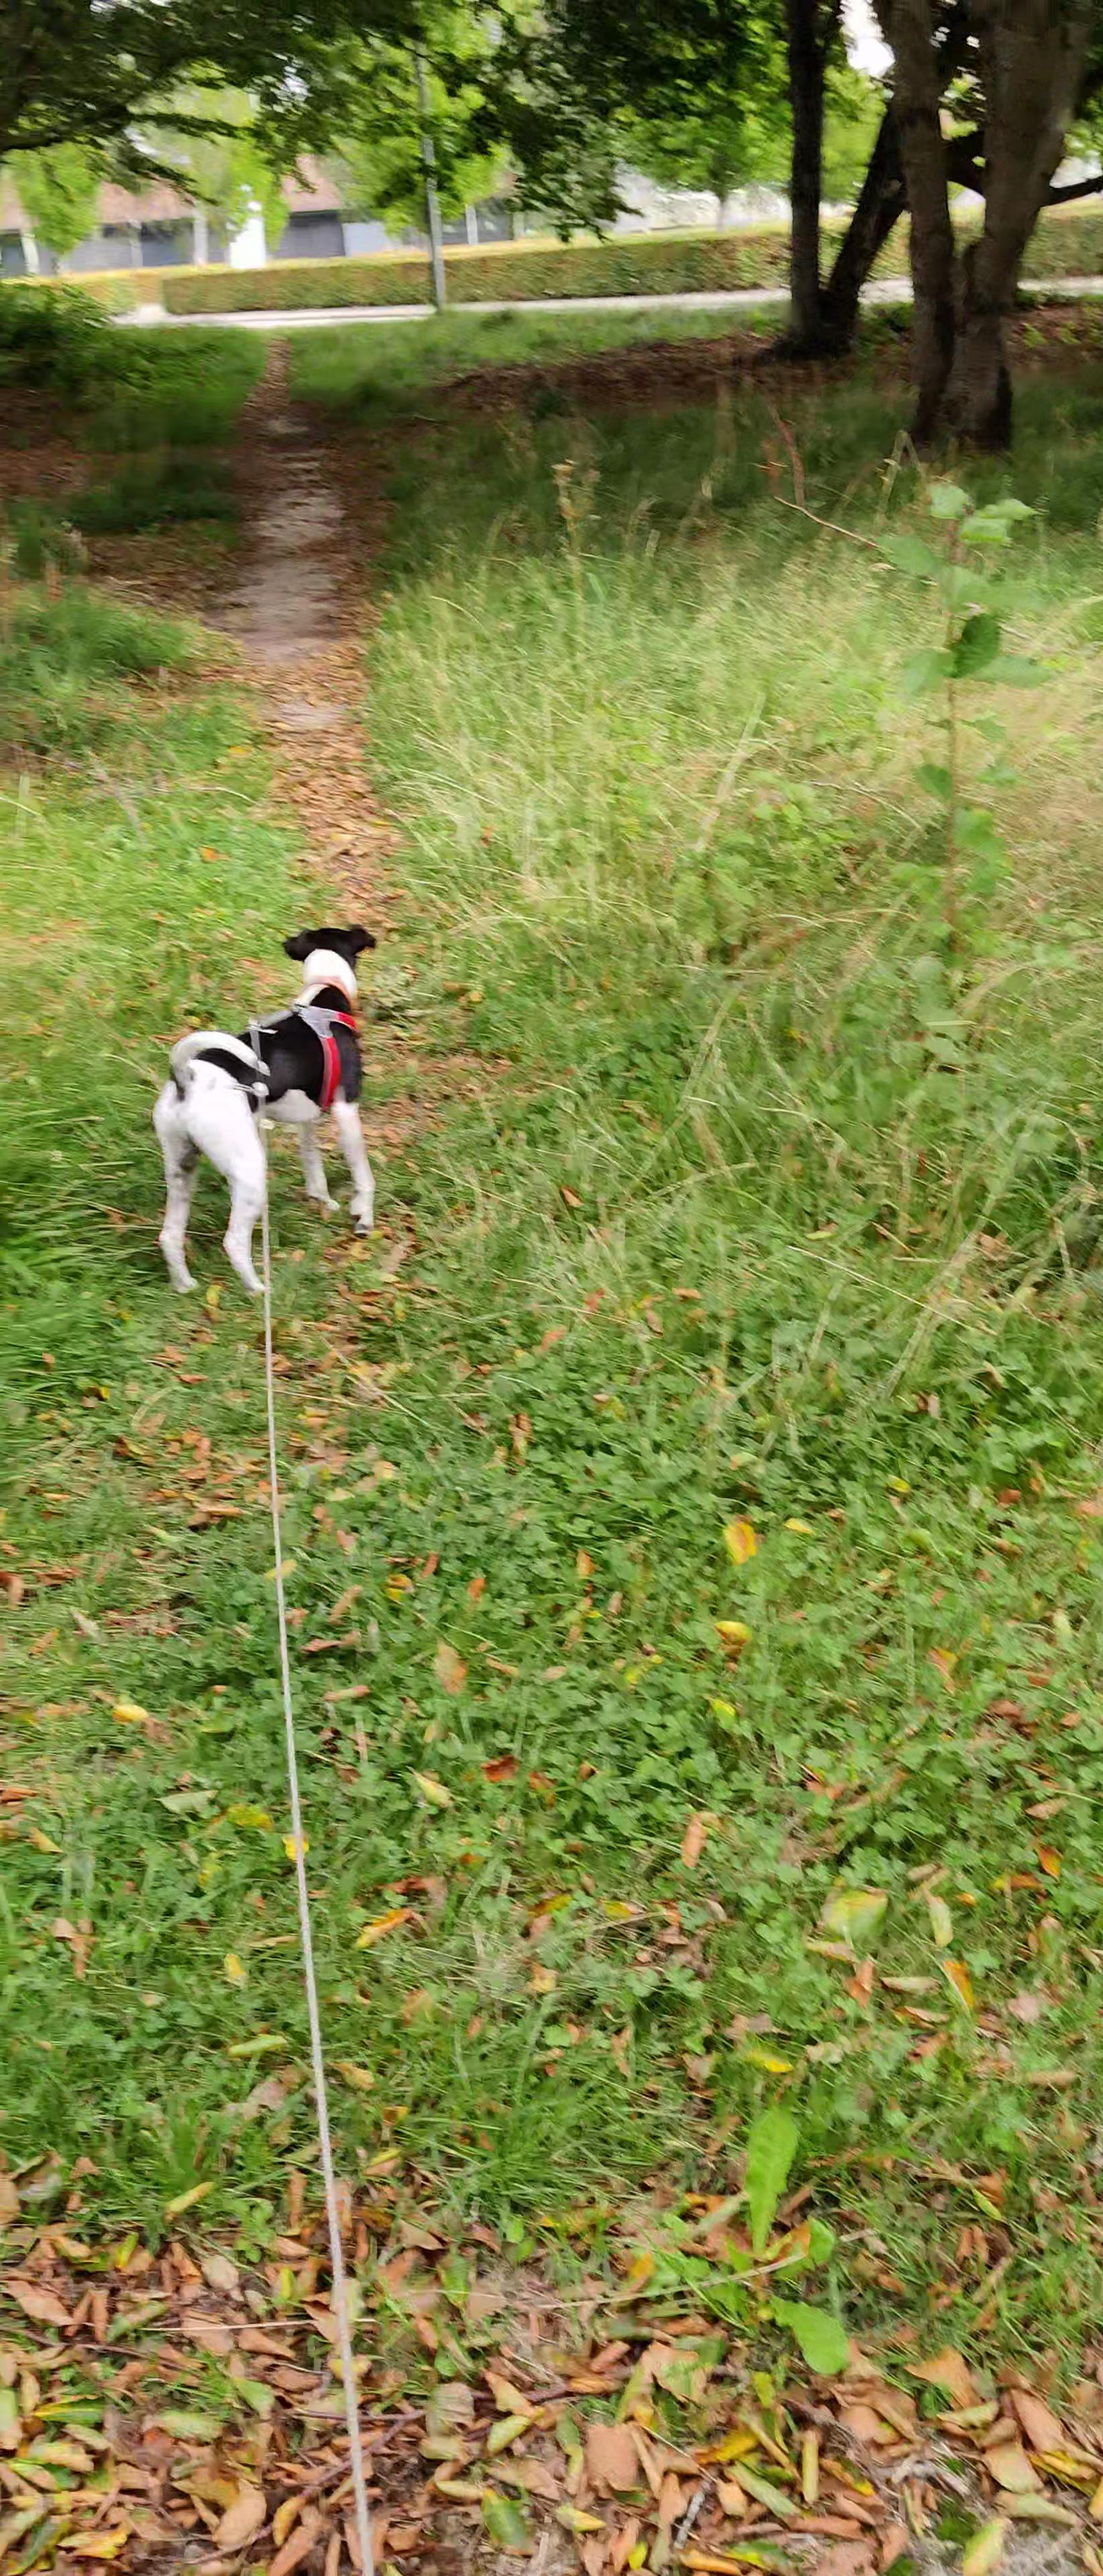Dog: (143, 922, 393, 1295)
